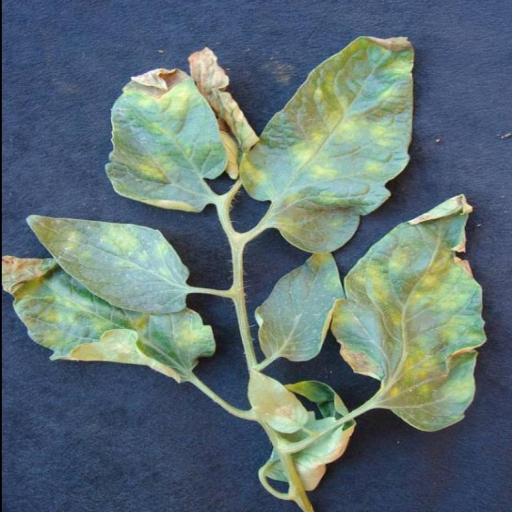Leaf Mold: (236, 30, 412, 252), (330, 192, 484, 432), (0, 254, 212, 384), (102, 67, 226, 217), (20, 213, 194, 313), (252, 252, 340, 362)
